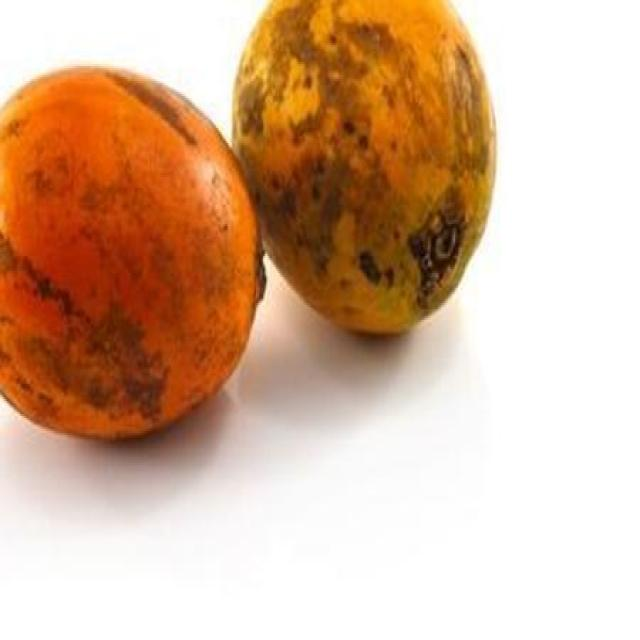good: (1, 66, 266, 444), (229, 0, 498, 339)
